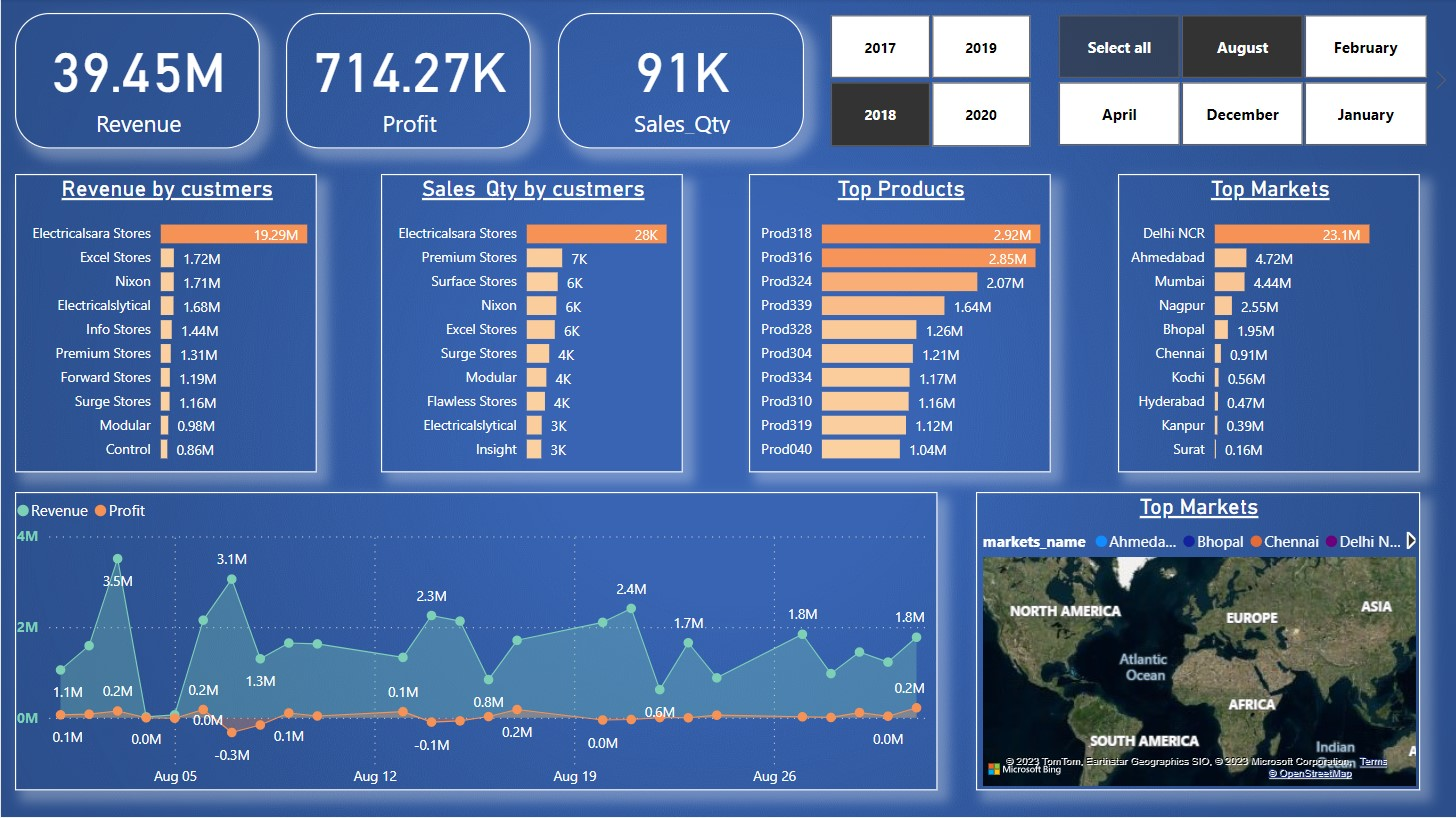

The page's visual inventory and layout, read from the dashboard file:
{"tool":"powerbi","page":{"name":"Sales_Insights","canvas":[1280,720],"ordinal":0},"visuals":[{"type":"card","fields":{"Values":["Base measure.Revenue"]},"box":[12.6,12,214.8,118.6],"z":0},{"type":"card","fields":{"Values":["Base measure.Sales_Qty"]},"box":[489,12,215.8,118.6],"z":1000},{"type":"barChart","title":"Revenue by custmers","fields":{"Y":["Base measure.Revenue"],"Category":["customers.custmer_name"]},"box":[12.6,154,265.3,262.4],"z":2000},{"type":"barChart","title":"Sales_Qty by custmers","fields":{"Category":["customers.custmer_name"],"Y":["Base measure.Sales_Qty"]},"box":[334,153.6,265.3,262.4],"z":3000},{"type":"barChart","title":"Top Products","fields":{"Y":["Base measure.Revenue"],"Category":["transactions.product_code"]},"box":[657,153.6,265.3,262.4],"z":4000},{"type":"slicer","fields":{"Values":["date.year"]},"box":[708,12,215,118.6],"z":5000},{"type":"slicer","fields":{"Values":["transactions.Month"]},"box":[908,12,362.5,117.6],"z":6000},{"type":"card","fields":{"Values":["Base measure.Profit"]},"box":[250,12,214.8,118.6],"z":7000},{"type":"barChart","title":"Top Markets","fields":{"Y":["Base measure.Revenue"],"Category":["markets.markets_name"]},"box":[980.7,153.6,265.3,262.4],"z":8000},{"type":"map","title":"Top Markets","fields":{"Series":["markets.markets_name"],"Size":["Base measure.Revenue"]},"box":[856.2,432.5,389.7,262.4],"z":9000},{"type":"areaChart","title":"Top Markets","fields":{"Category":["transactions.order_date"],"Y":["Base measure.Revenue","Base measure.Profit"]},"box":[12.6,432.5,809.6,262.4],"z":10000}]}

Visuals, with their boxes in screenshot pixels (x1, y1, x2, y2), scaled from the page's 1280x720 canvas onto the 1456x818 screenshot:
card - Base measure.Revenue: [left=14, top=14, right=259, bottom=148]
card - Base measure.Sales_Qty: [left=556, top=14, right=802, bottom=148]
"Revenue by custmers" barChart: [left=14, top=175, right=316, bottom=473]
"Sales_Qty by custmers" barChart: [left=380, top=175, right=682, bottom=473]
"Top Products" barChart: [left=747, top=175, right=1049, bottom=473]
slicer - date.year: [left=805, top=14, right=1050, bottom=148]
slicer - transactions.Month: [left=1033, top=14, right=1445, bottom=147]
card - Base measure.Profit: [left=284, top=14, right=529, bottom=148]
"Top Markets" barChart: [left=1116, top=175, right=1417, bottom=473]
"Top Markets" map: [left=974, top=491, right=1417, bottom=789]
"Top Markets" areaChart: [left=14, top=491, right=935, bottom=789]
